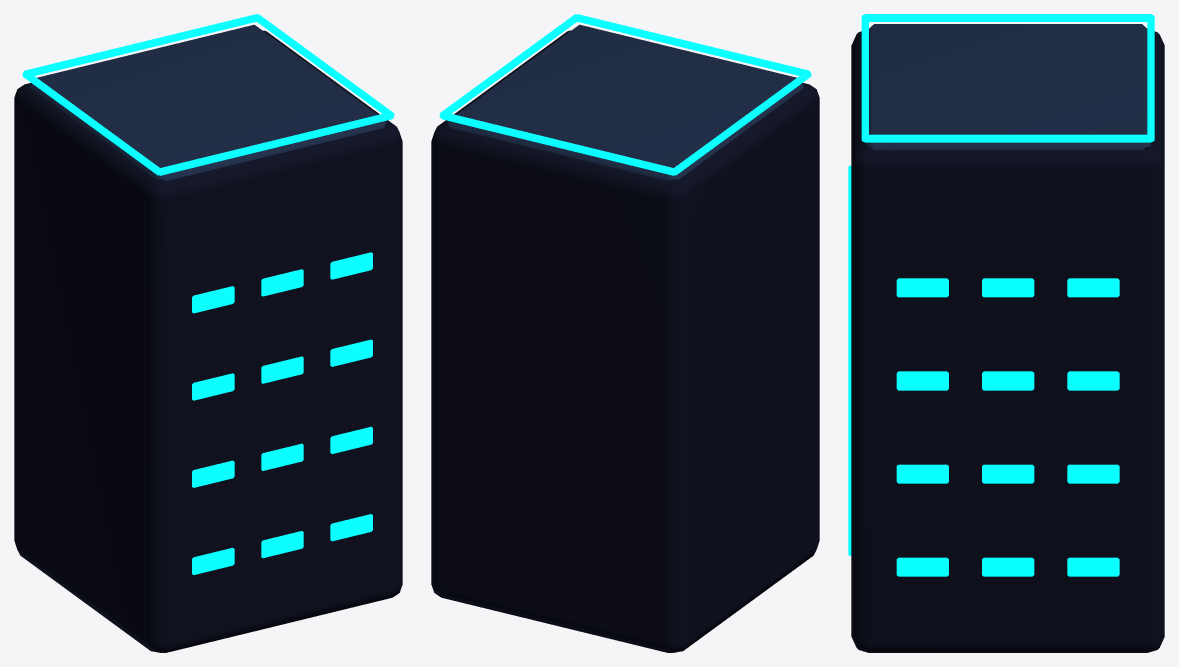
Rendered from NT_Backdrop_Block_Cyan.fbx.
The picture shows the model from 3 angles, left to right: view 1: azimuth 30°, elevation 25°; view 2: azimuth 150°, elevation 25°; view 3: azimuth 270°, elevation 25°; orthographic projection. The views are drawn at different scales.
Visible parts, largest first — view 1: NT_Backdrop_Block_Cyan__BackdropMesh; view 2: NT_Backdrop_Block_Cyan__BackdropMesh; view 3: NT_Backdrop_Block_Cyan__BackdropMesh.
Part boxes in pixels (x1,y1,x2,y2): NT_Backdrop_Block_Cyan__BackdropMesh: (14, 14, 402, 652); NT_Backdrop_Block_Cyan__BackdropMesh: (431, 14, 819, 652); NT_Backdrop_Block_Cyan__BackdropMesh: (848, 14, 1164, 652).
Bounding box in the file's own units: 1.82 × 3.29 × 1.82.
